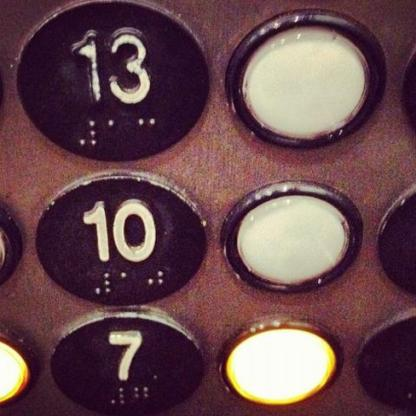10: (23, 163, 212, 308)
13: (8, 0, 216, 165)
7: (36, 306, 214, 415)
empty: (222, 2, 390, 152), (214, 174, 370, 296), (212, 309, 349, 409)
